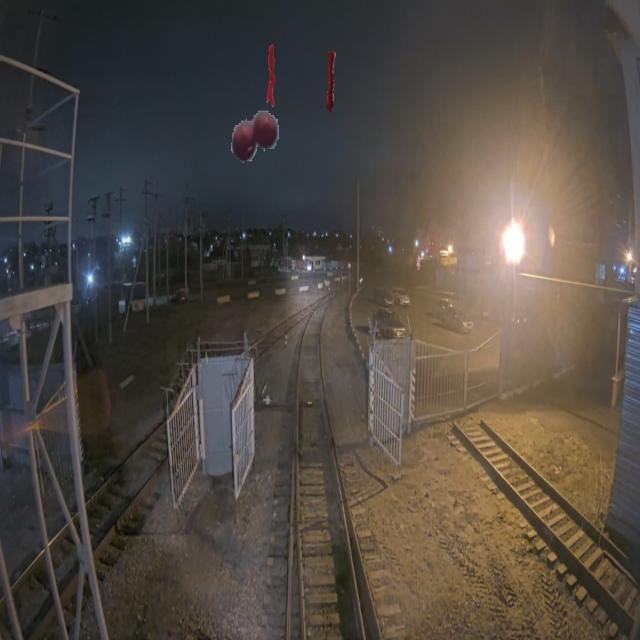balloon: (230, 100, 279, 164)
floating object: (325, 50, 336, 114), (266, 44, 276, 108)
